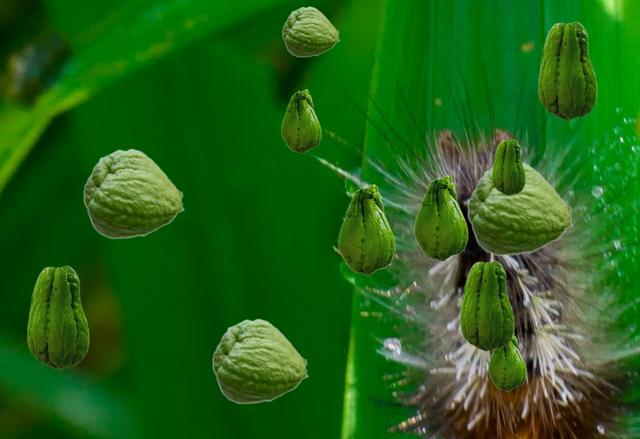sayote: (467, 162, 573, 255), (83, 148, 184, 238), (212, 318, 308, 403), (27, 265, 88, 368), (538, 21, 596, 119), (338, 184, 394, 274), (460, 260, 513, 350), (414, 175, 467, 260), (282, 6, 339, 56), (281, 89, 320, 152), (488, 332, 525, 390), (492, 139, 524, 194)
